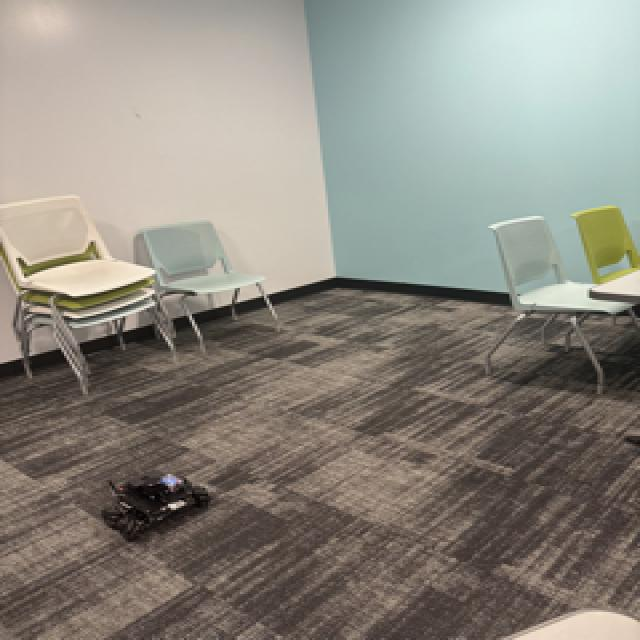ArduinoCar3: (101, 469, 210, 537)
